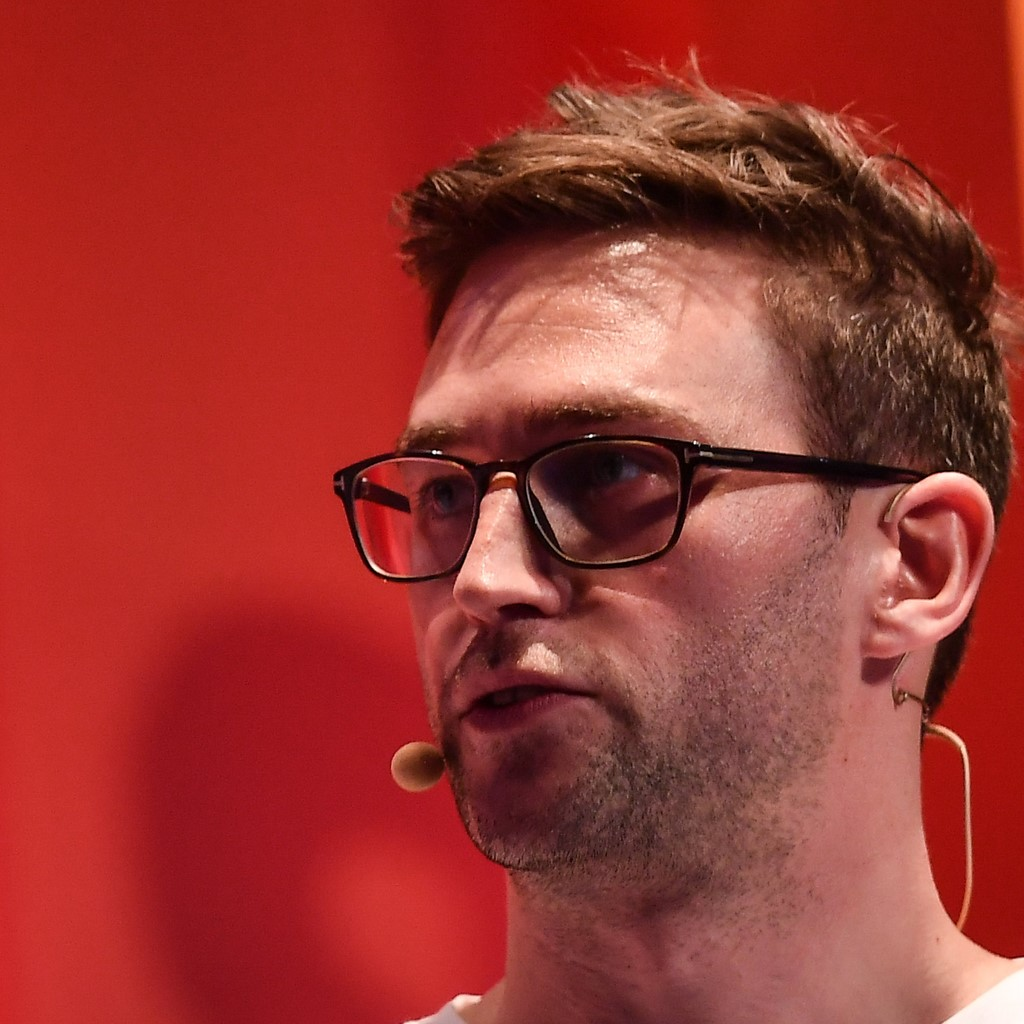sin_mascara: (390, 170, 938, 905)
